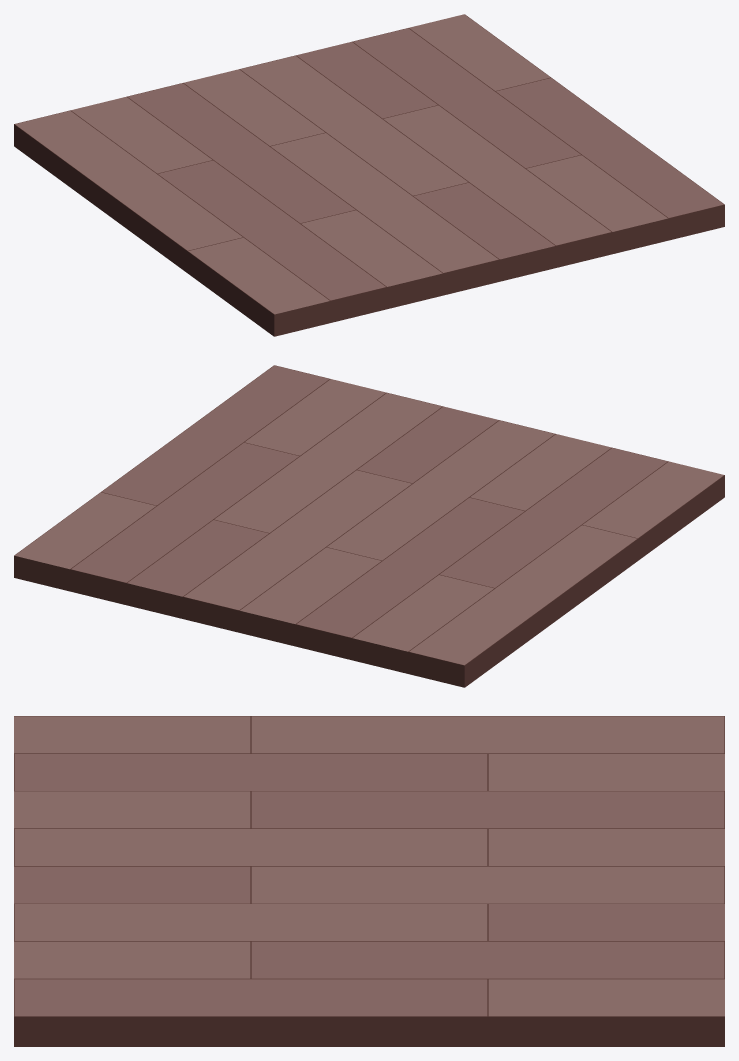
File: floor_office_opt1.fbx
3 renders of one model, top to bottom at view 1: azimuth 30°, elevation 25°; view 2: azimuth 150°, elevation 25°; view 3: azimuth 270°, elevation 25°, orthographic. The views are drawn at different scales.
Visible parts, largest first — view 1: Floor_02; view 2: Floor_02; view 3: Floor_02.
Part boxes in pixels (x1=…): Floor_02: x1=14, y1=14, x2=724, y2=336; Floor_02: x1=14, y1=365, x2=724, y2=687; Floor_02: x1=14, y1=716, x2=724, y2=1046.
Size of the model in its own units: 450 by 21.22 by 450.
